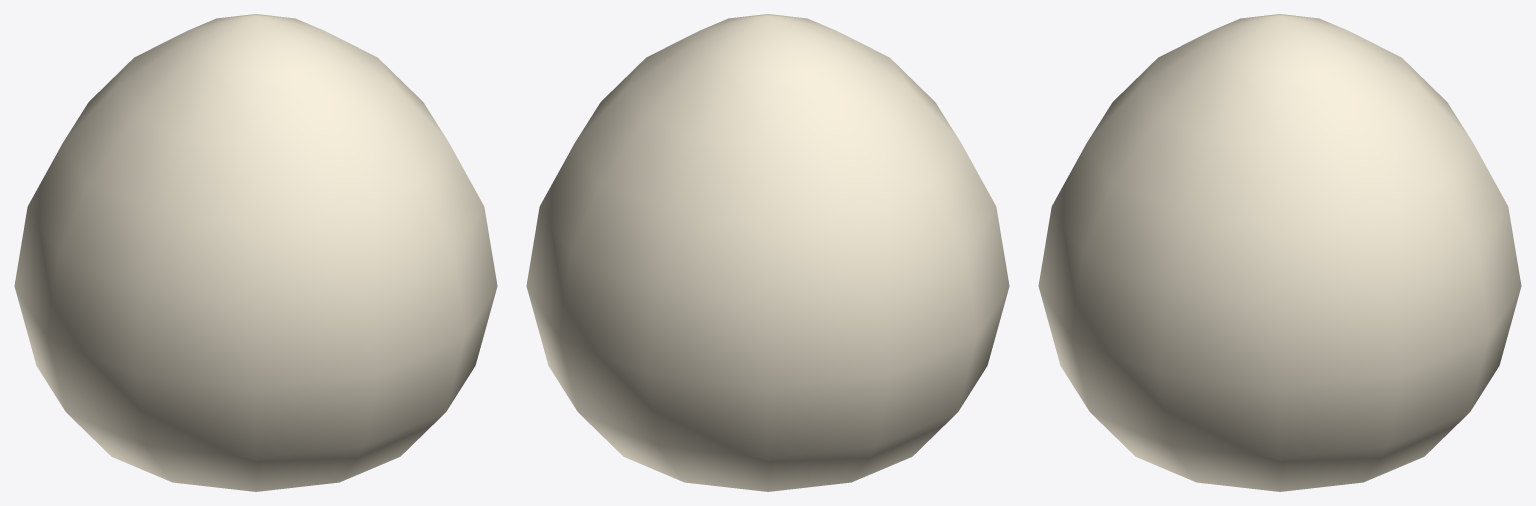
Rendered from egg.obj.
The picture shows the model from 3 angles, left to right: view 1: azimuth 30°, elevation 25°; view 2: azimuth 150°, elevation 25°; view 3: azimuth 270°, elevation 25°; orthographic projection.
Visible parts, largest first — view 1: egg; view 2: egg; view 3: egg.
Part boxes in pixels (x1,y1,x2,y2): egg: (14, 14, 497, 491); egg: (526, 14, 1009, 491); egg: (1038, 14, 1521, 491).
Size of the model in its own units: 0.55 by 0.56 by 0.55.
